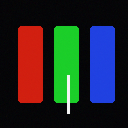4 line_v: (67, 75, 69, 113)
